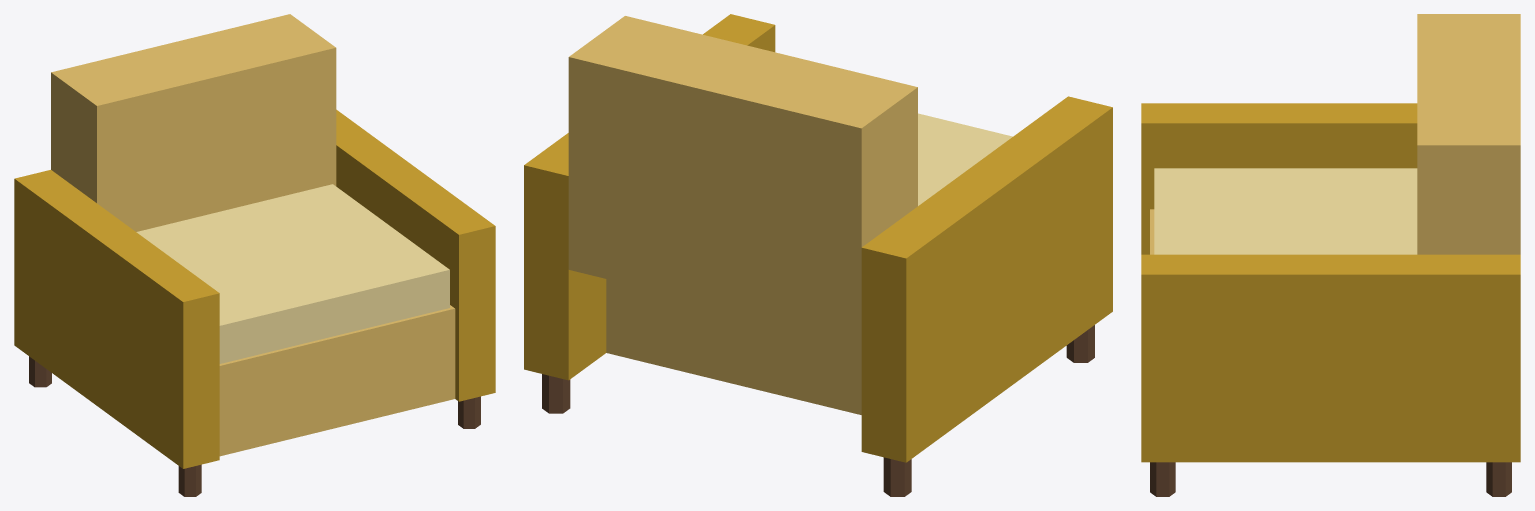
Rendered from armchair.82e2261a81a0.glb.
3 views of the same model, side by side, from view 1: azimuth 30°, elevation 25°; view 2: azimuth 150°, elevation 25°; view 3: azimuth 270°, elevation 25° (orthographic). The views are drawn at different scales.
Visible parts, largest first — view 1: armchair; view 2: armchair; view 3: armchair.
Boxes of the visible parts, x1,y1,x2,y2 form: armchair: (14,14,495,496); armchair: (524,14,1112,496); armchair: (1141,14,1520,496).
Size of the model in its own units: 0.94 by 0.86 by 0.88.
